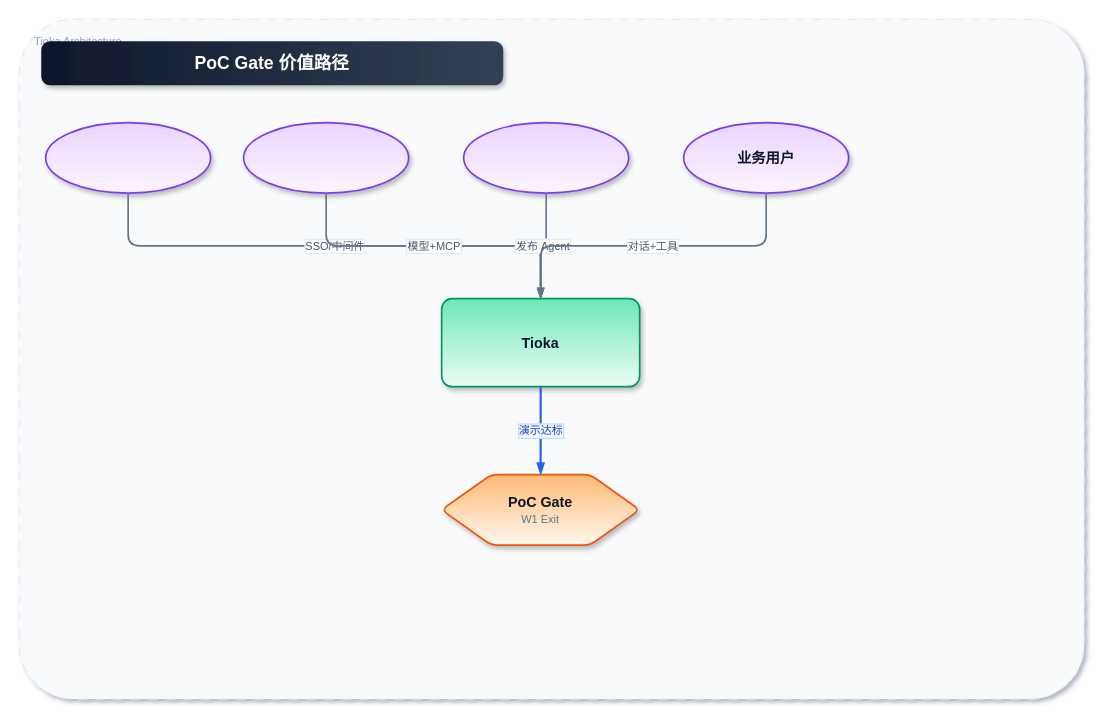
Image size: 1110x725. Some labels were removed from this diagram. The shapes that lost their labels are listed below. From the top down, each one's centre as x and y in pixels, then its label:
At pixel 129 159: "客户 IT".
At pixel 327 159: "平台管理员".
At pixel 547 159: "Agent 工程师".
